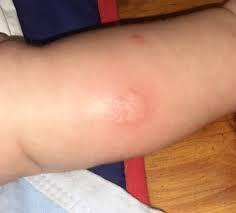Spider: (117, 93, 144, 125)
